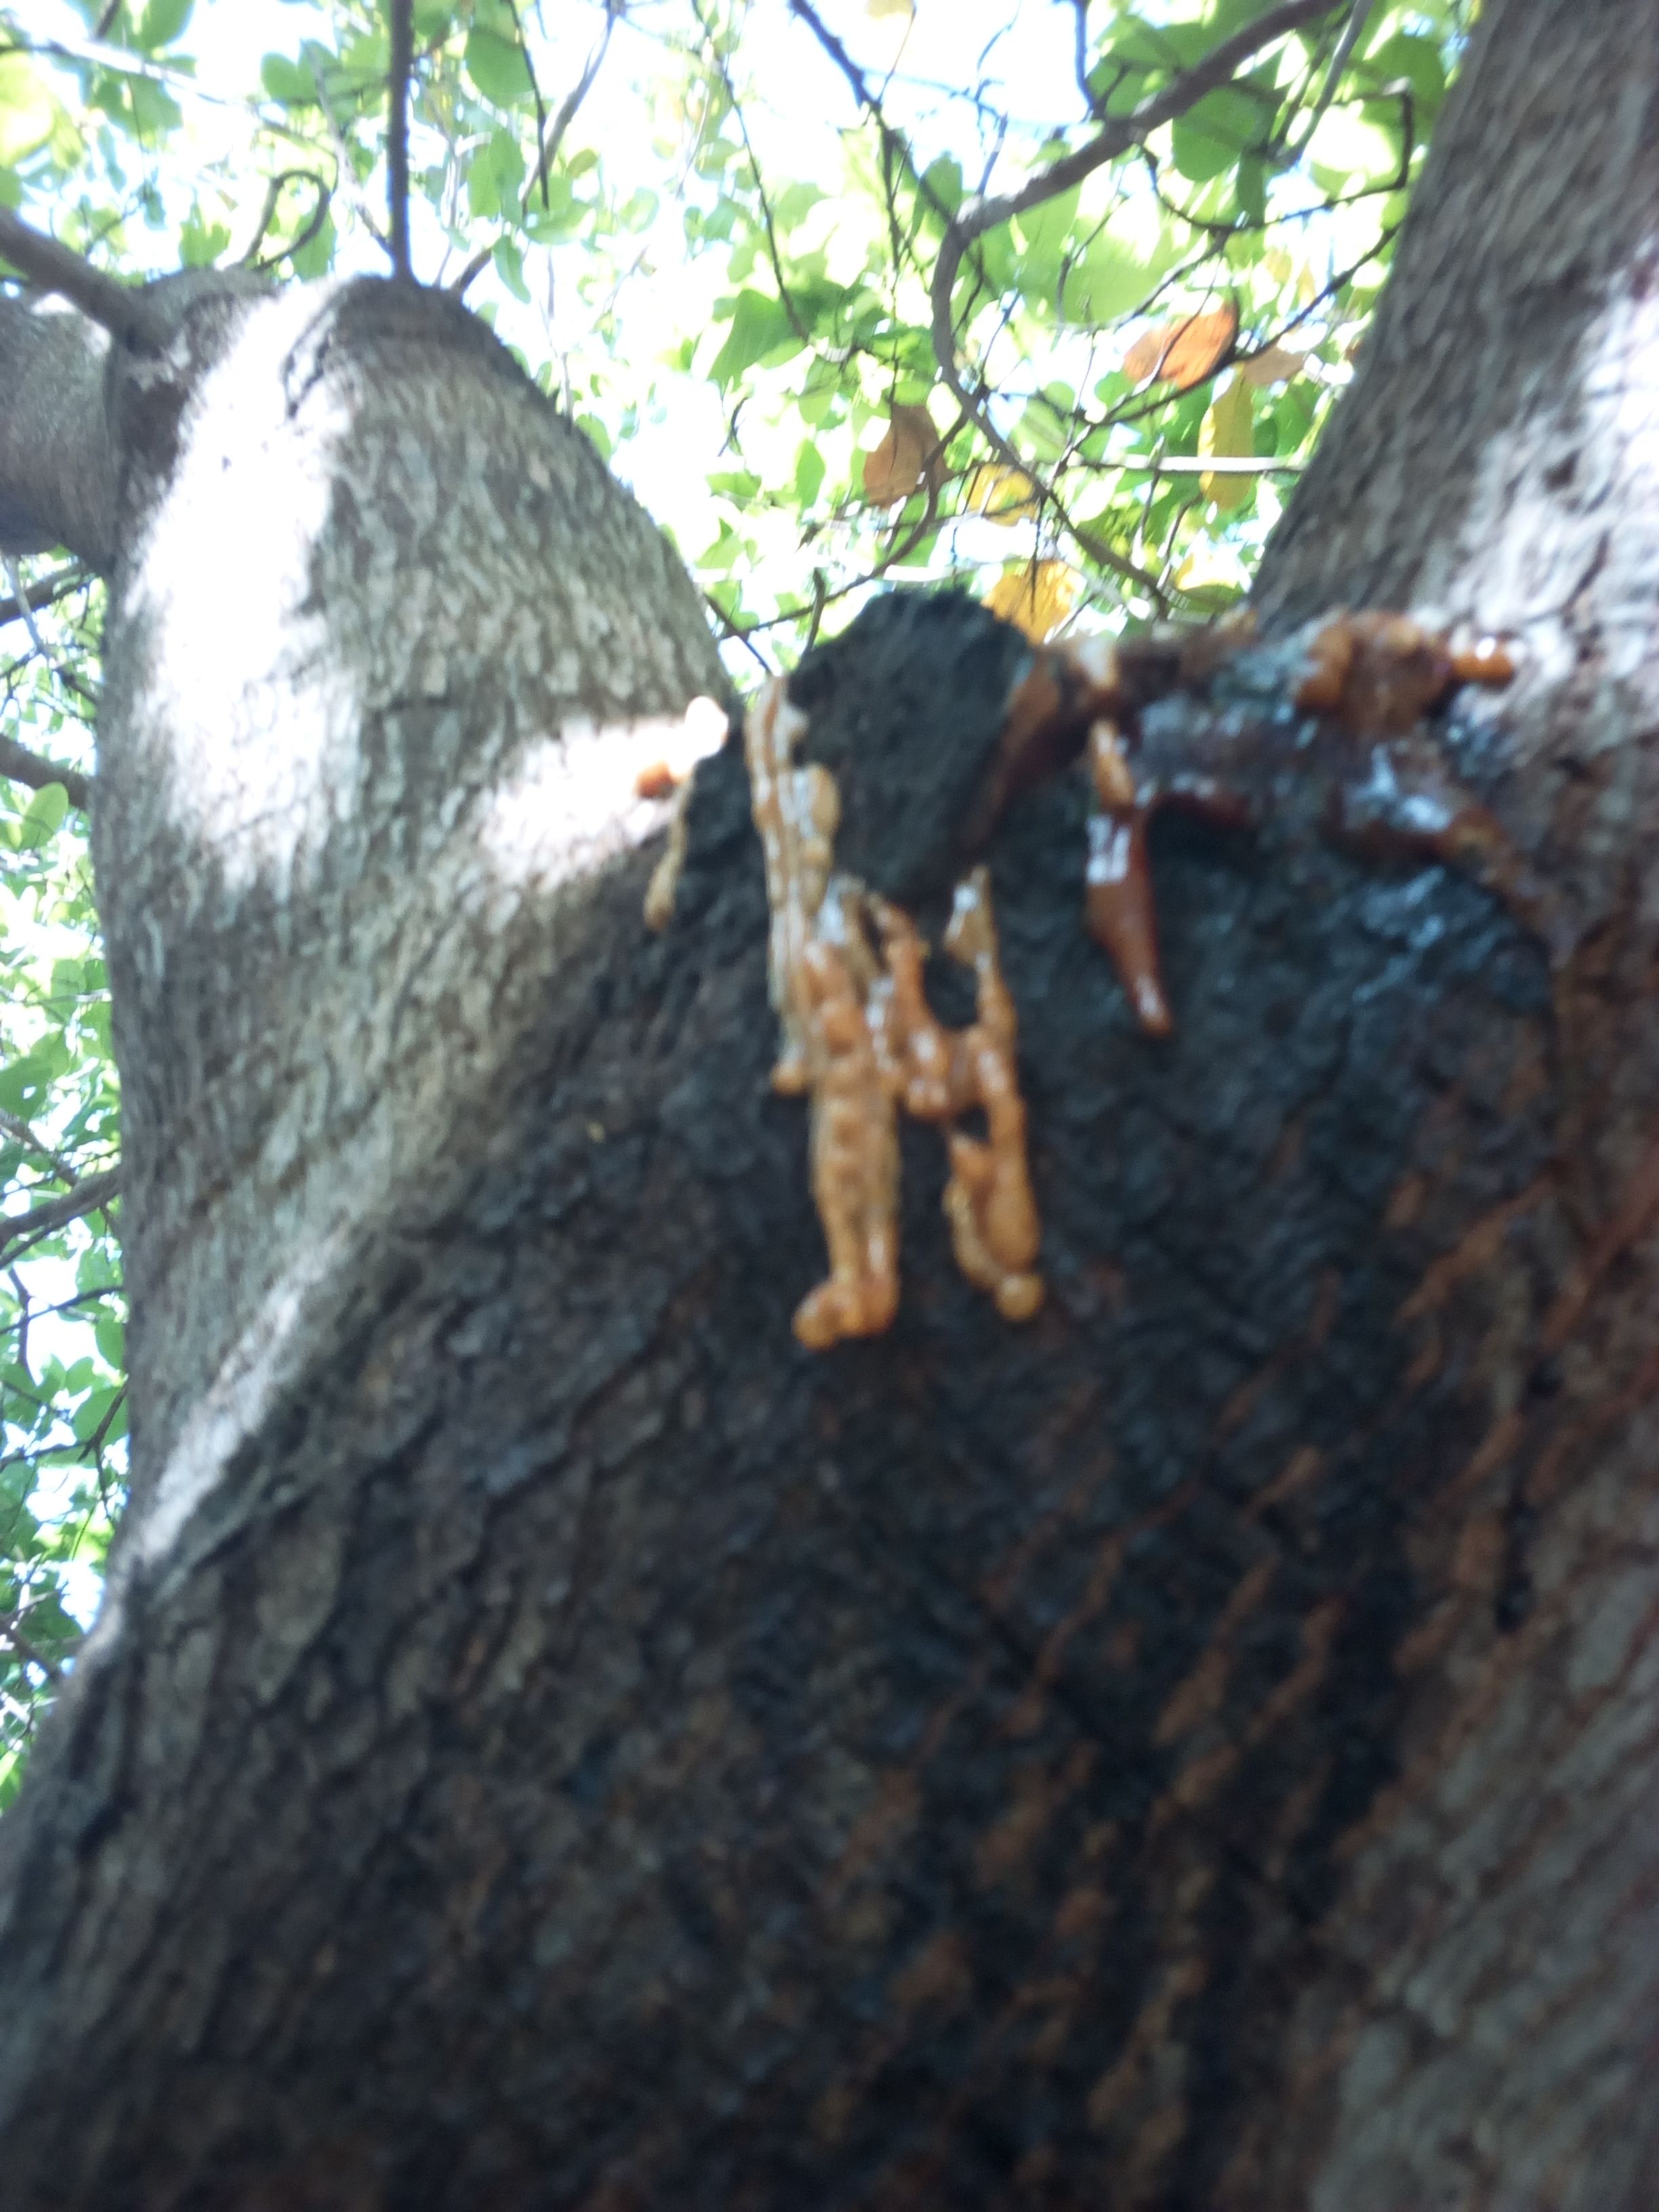Gommose: (667, 651, 1565, 2109)
